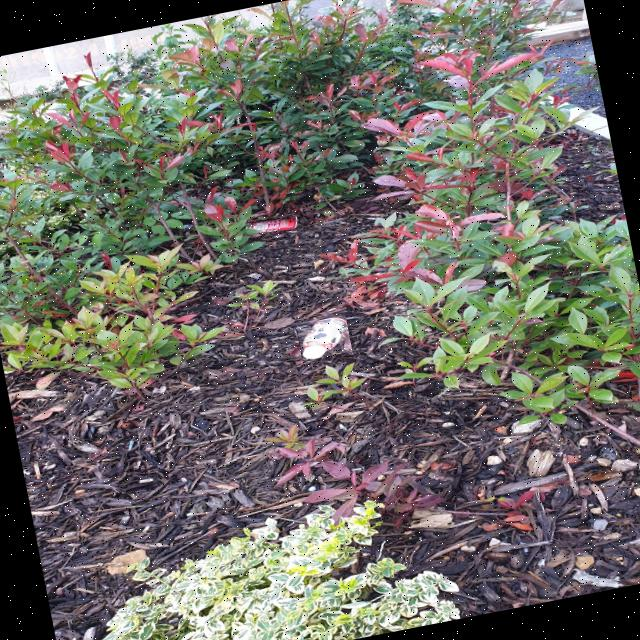Drink can: (247, 217, 297, 233)
Other plastic container: (303, 318, 348, 359)
